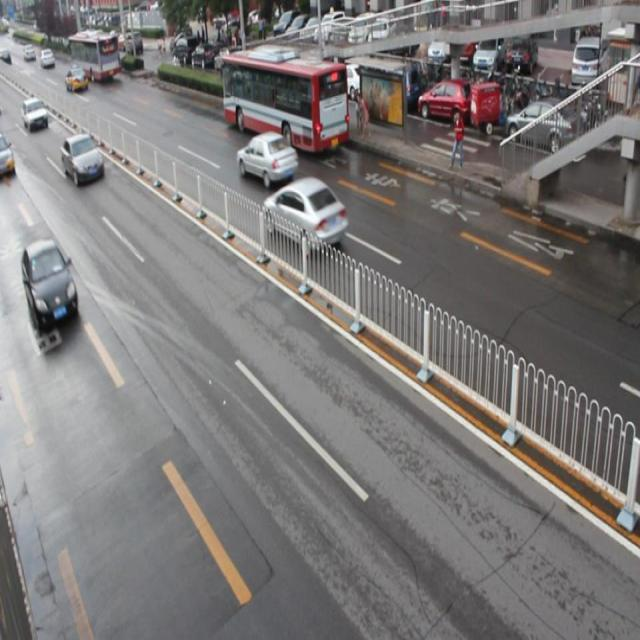car: (262, 175, 345, 252), (21, 234, 78, 331), (235, 129, 297, 186), (60, 132, 105, 187)
van: (222, 52, 346, 152)
